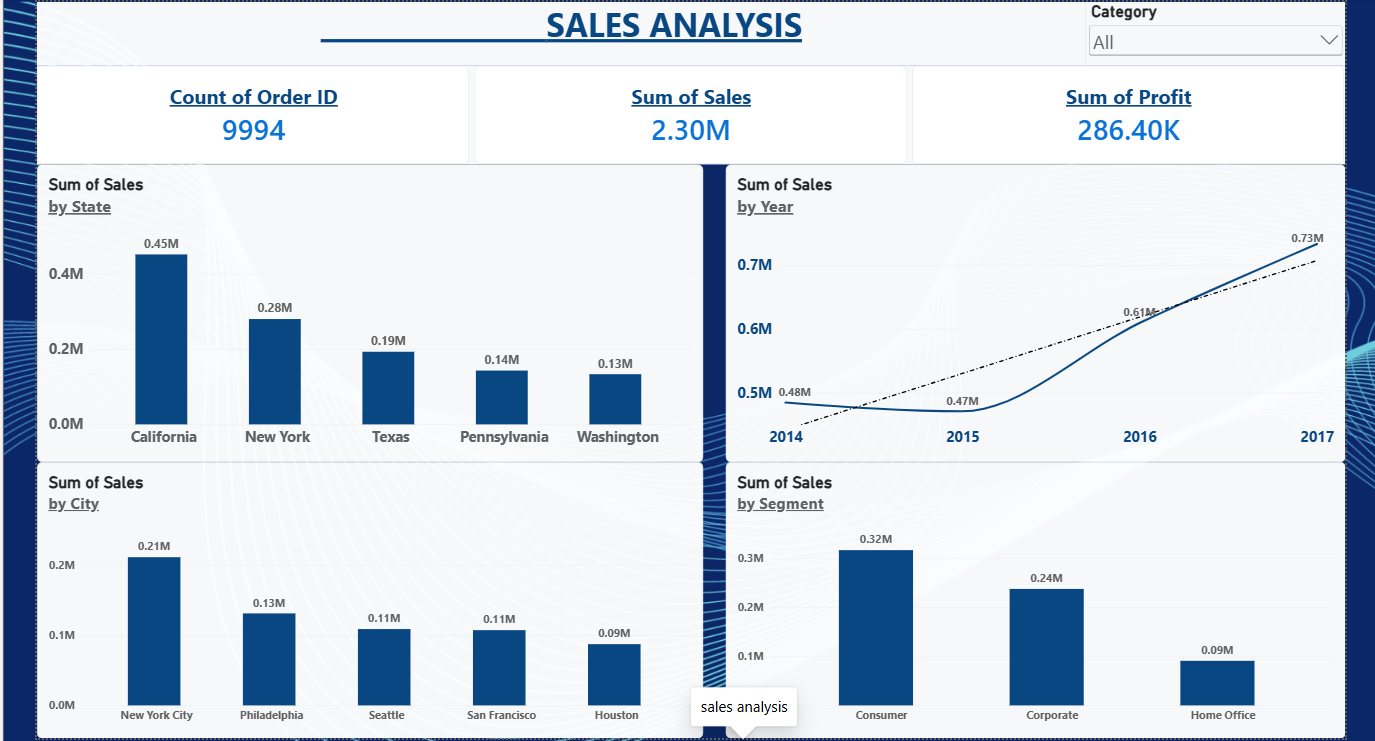

This screenshot's page, from the dashboard's own definition file:
{"tool":"powerbi","page":{"name":"sales analysis","canvas":[1920,1080],"ordinal":4},"visuals":[{"type":"slicer","fields":{"Values":["Product.Category"]},"box":[1538.5,0,381.5,93.5],"z":0},{"type":"cardVisual","fields":{"Data":["CountNonNull(Orders.Order ID)","Sum(Orders.Sales)","Sum(Orders.Profit)"]},"box":[0,93.5,1920.5,144.9],"z":1000},{"type":"clusteredColumnChart","fields":{"Category":["Customer.State"],"Y":["Sum(Orders.Sales)"]},"box":[0,238.5,977.7,436.6],"z":2000},{"type":"lineChart","fields":{"Category":["Orders.Order Date.Variation.Date Hierarchy.Year","Orders.Order Date.Variation.Date Hierarchy.Quarter","Orders.Order Date.Variation.Date Hierarchy.Month","Orders.Order Date.Variation.Date Hierarchy.Day"],"Y":["Sum(Orders.Sales)"]},"box":[1010.2,238.5,909.8,436.6],"z":3000},{"type":"clusteredColumnChart","fields":{"Category":["Customer.City"],"Y":["Sum(Orders.Sales)"]},"box":[0,674.6,977.7,405.4],"z":4000},{"type":"clusteredColumnChart","fields":{"Category":["Customer.Segment"],"Y":["Sum(Orders.Sales)"]},"box":[1010.2,674.6,909.8,405.4],"z":5000},{"type":"textbox","box":[0,0,1538.9,93.5],"z":6000}]}

Visuals, with their boxes on the page's 1920x1080 design canvas (x1, y1, x2, y2). These are canvas units, not pixel positions in the 1375x741 screenshot, which may show the page scaled, cropped or inside an application window:
slicer - Product.Category: BBox(1538, 0, 1920, 94)
cardVisual - CountNonNull(Orders.Order ID) x Sum(Orders.Sales): BBox(0, 94, 1920, 238)
clusteredColumnChart - Customer.State x Sum(Orders.Sales): BBox(0, 238, 978, 675)
lineChart - Orders.Order Date.Variation.Date Hierarchy.Year x Orders.Order Date.Variation.Date Hierarchy.Quarter: BBox(1010, 238, 1920, 675)
clusteredColumnChart - Customer.City x Sum(Orders.Sales): BBox(0, 675, 978, 1080)
clusteredColumnChart - Customer.Segment x Sum(Orders.Sales): BBox(1010, 675, 1920, 1080)
textbox: BBox(0, 0, 1539, 94)
